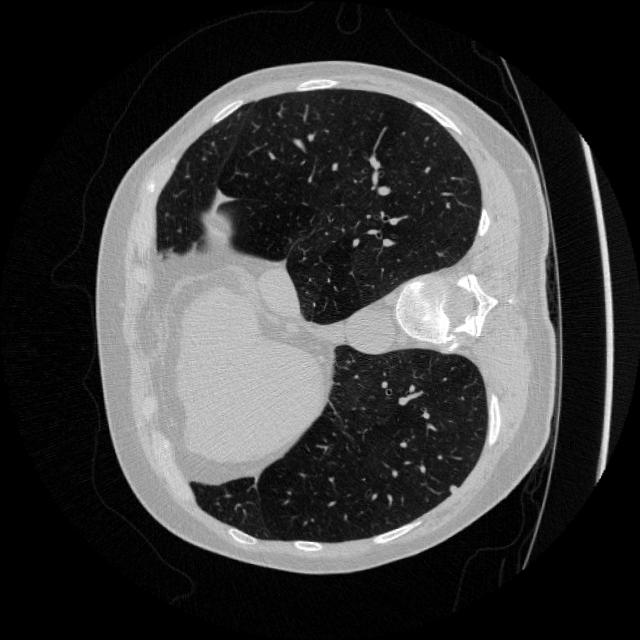nodule: (441, 475, 462, 496)
